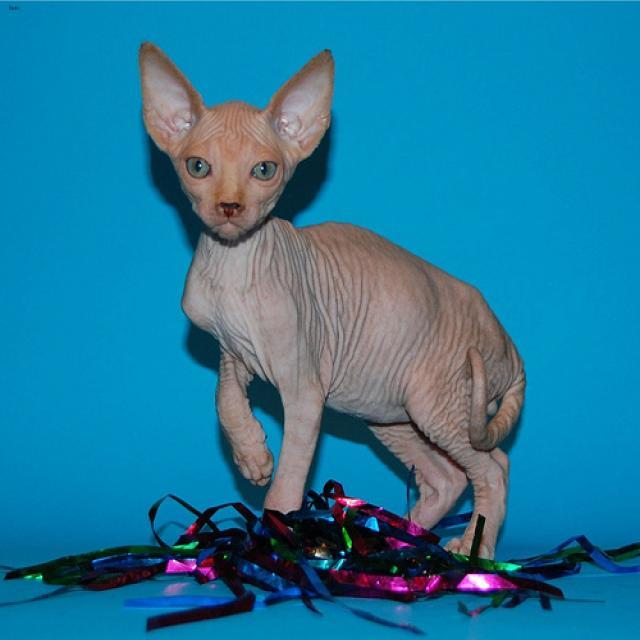Sphynx: (132, 39, 334, 246)
